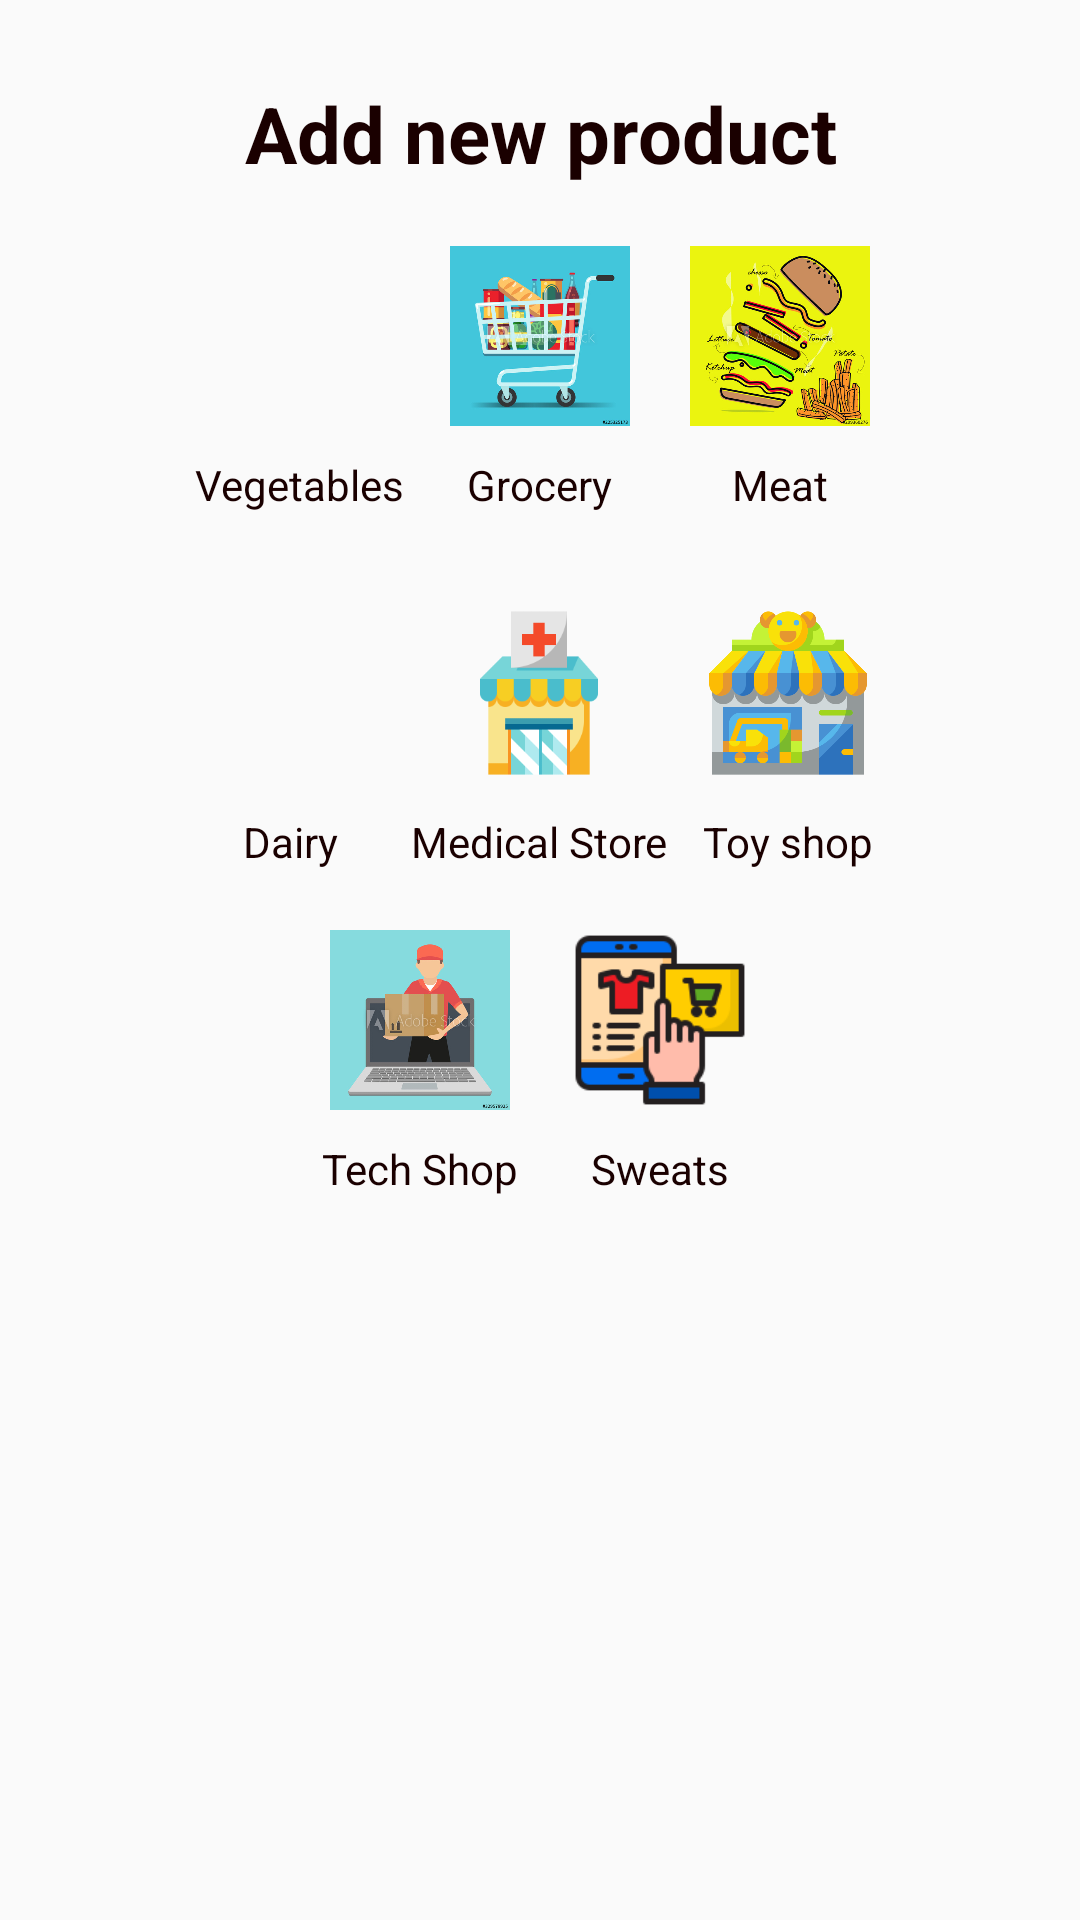

Screen size 1080x1920. Icon name, then its center in pixels as (x=x, y=y):
ecommerce: (x=660, y=1020)
restaurnt: (x=780, y=336)
